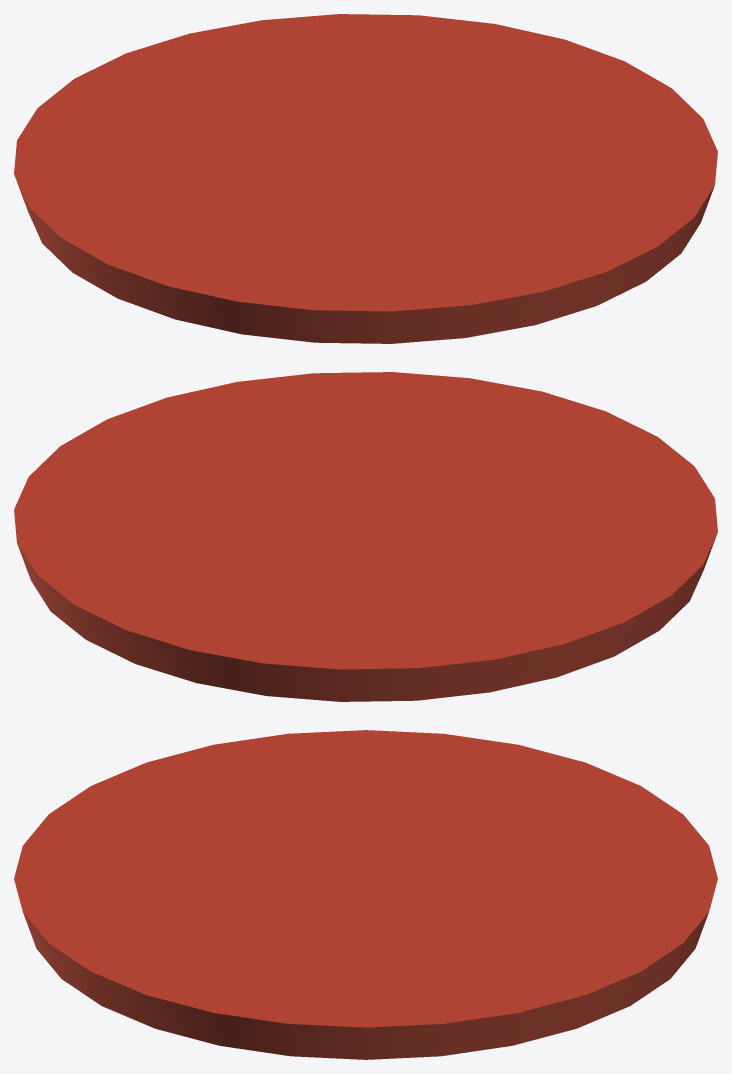
The model's file is peca-tomate.glb.
3 views of the same model, one above another, from view 1: azimuth 30°, elevation 25°; view 2: azimuth 150°, elevation 25°; view 3: azimuth 270°, elevation 25° (orthographic).
Size of the model in its own units: 0.2 by 0.012 by 0.2.
